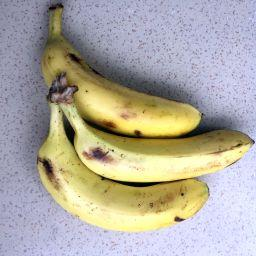banana: (34, 74, 212, 236), (36, 0, 206, 141), (56, 69, 256, 186)
